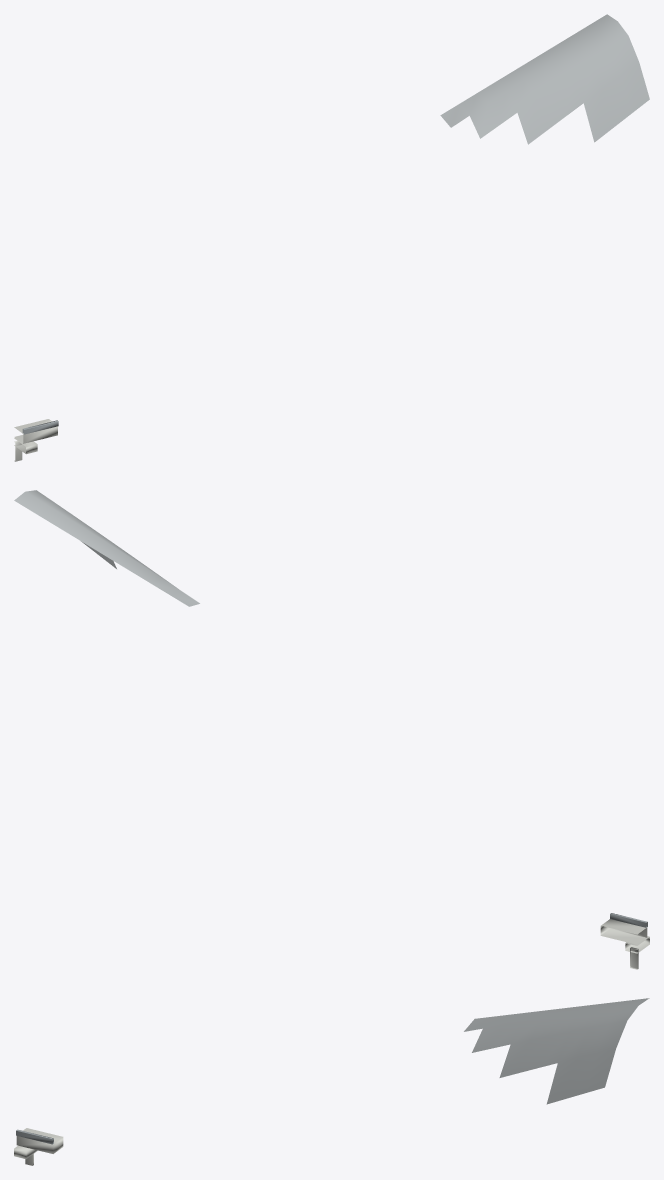
Rendered from alpine-10-12.glb.
The picture shows the model from 3 angles, top to bottom: view 1: azimuth 30°, elevation 25°; view 2: azimuth 150°, elevation 25°; view 3: azimuth 330°, elevation 25°; orthographic projection. The views are drawn at different scales.
Parts seen in each view (by area): view 1: alpine-10-12; view 2: alpine-10-12; view 3: alpine-10-12.
Part boxes in pixels (<box>): alpine-10-12: <box>14,14,649,461</box>; alpine-10-12: <box>14,490,649,969</box>; alpine-10-12: <box>14,998,649,1165</box>.
Size of the model in its own units: 256 by 125 by 32.
3 materials, 3 textured.
